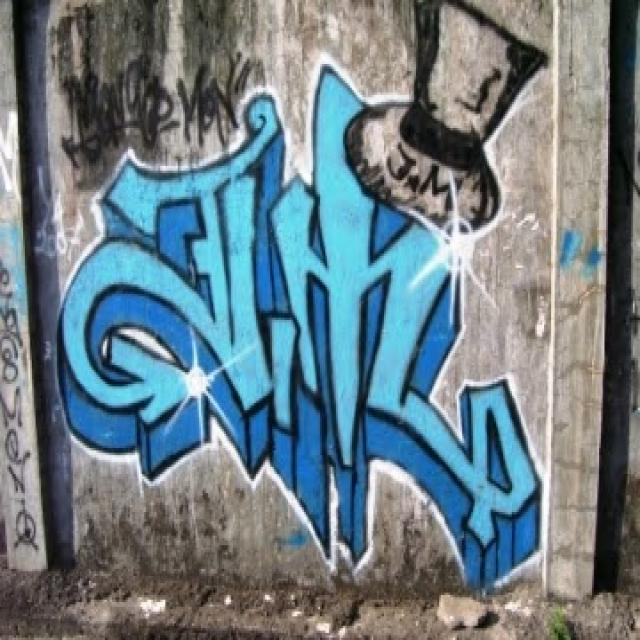-: (54, 0, 542, 595), (57, 53, 267, 170), (0, 266, 39, 552)
